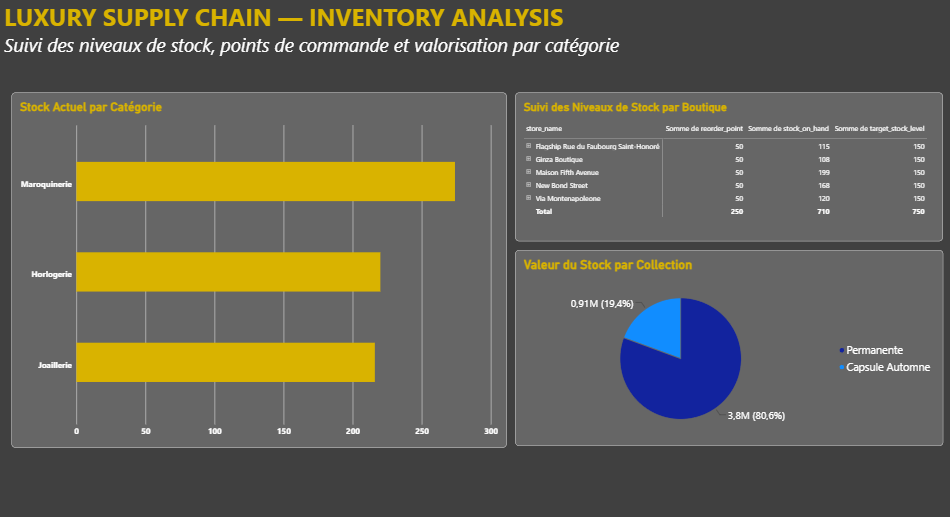

The dashboard page shown, as its layout file describes it:
{"tool":"powerbi","page":{"name":"Page 2","canvas":[1920,1080],"ordinal":1},"visuals":[{"type":"textbox","box":[10.3,0,1360.6,279.9],"z":0},{"type":"clusteredBarChart","title":"Stock Actuel par Catégorie","fields":{"Category":["products.category"],"Y":["Sum(inventory.stock_on_hand)"]},"box":[25,185,990,710],"z":1000},{"type":"pivotTable","title":"Suivi des Niveaux de Stock par Boutique","fields":{"Rows":["stores.store_name","products.product_name"],"Values":["Sum(inventory.reorder_point)","Sum(inventory.stock_on_hand)","Sum(inventory.target_stock_level)"]},"box":[1032.5,185,855,297.5],"z":1001},{"type":"pieChart","title":"Valeur du Stock par Collection","fields":{"Category":["products.collection"],"Y":["inventory.Total Inventory Value"]},"box":[1032.5,500,856,392],"z":1002}]}

Visuals, with their boxes on the page's 1920x1080 design canvas (x1, y1, x2, y2). These are canvas units, not pixel positions in the 950x517 screenshot, which may show the page scaled, cropped or inside an application window:
textbox: select_region(10, 0, 1371, 280)
"Stock Actuel par Catégorie" clusteredBarChart: select_region(25, 185, 1015, 895)
"Suivi des Niveaux de Stock par Boutique" pivotTable: select_region(1032, 185, 1888, 482)
"Valeur du Stock par Collection" pieChart: select_region(1032, 500, 1888, 892)
